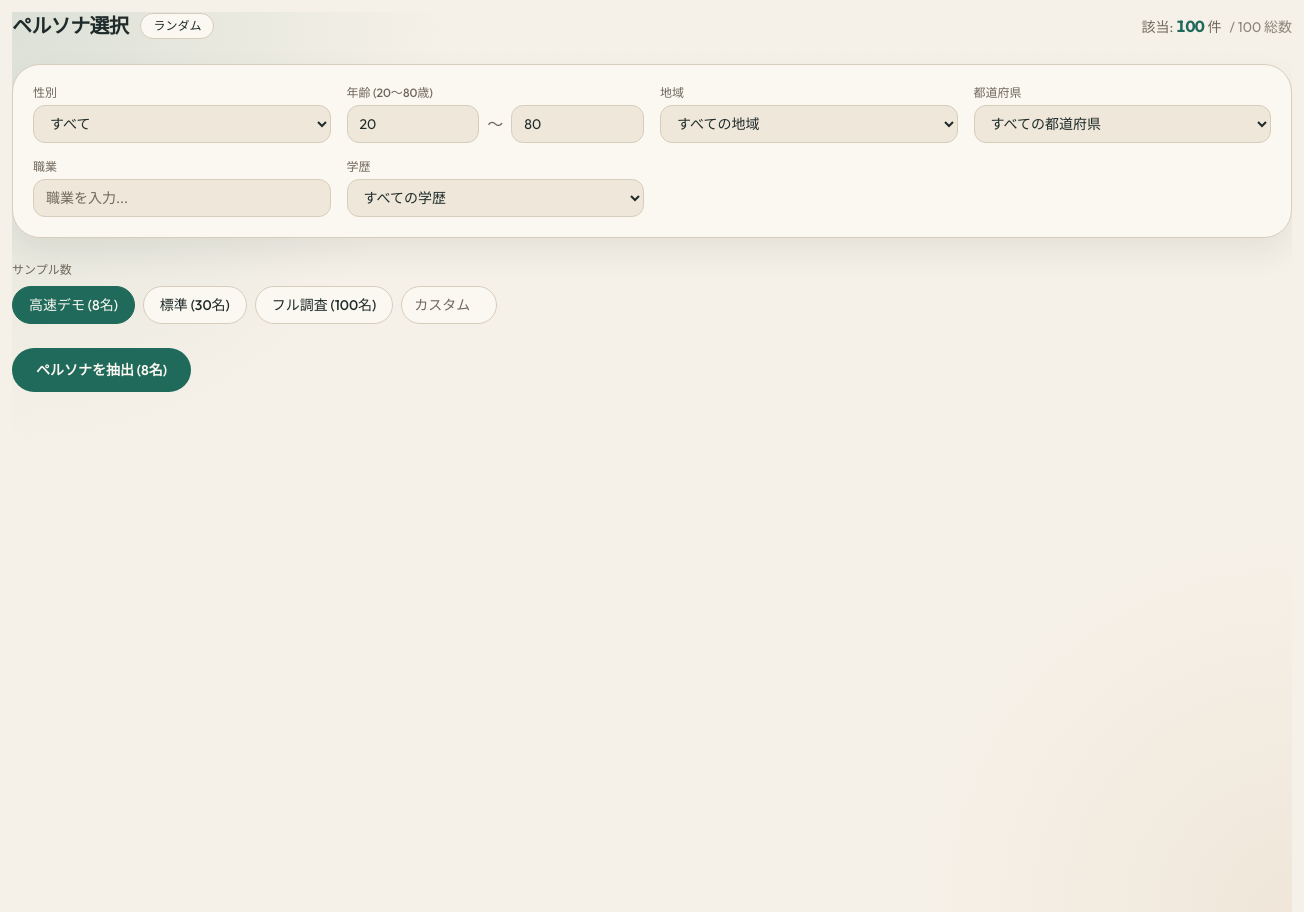
Test: FilterPanel › changing filter requests updated hit count
The width and height of the screenshot is (1304, 912).
Select "男性" in the dropdown below "性別": (182, 124) top-left (33, 105), bottom-right (330, 143)
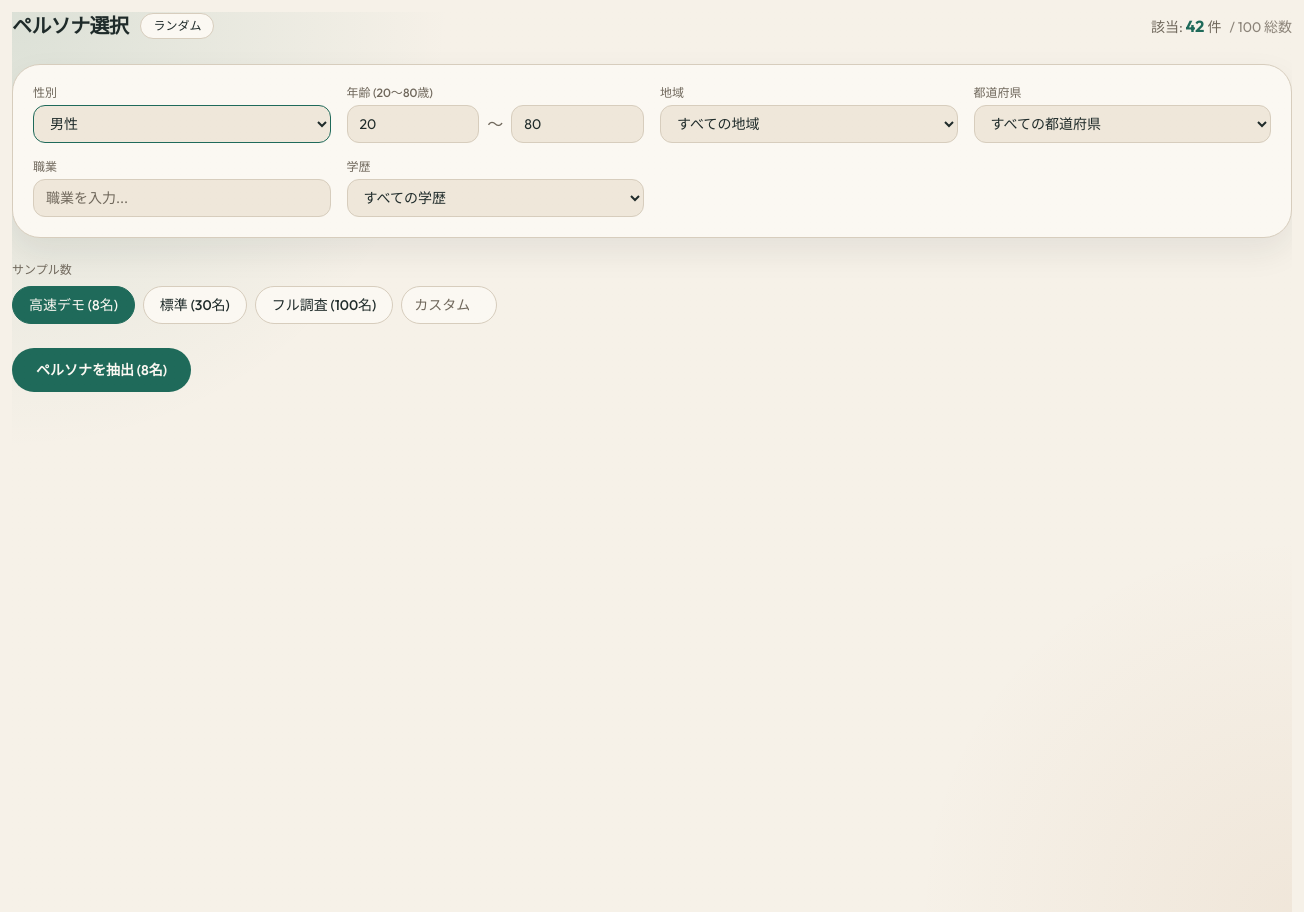
Check: the text "42" is shown, box top-left (1186, 16), bottom-right (1205, 36)
